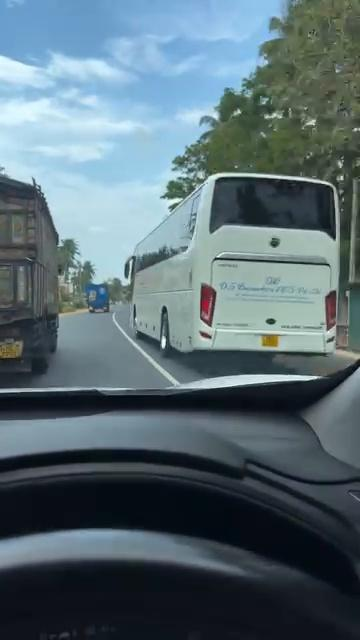illegal overtaking: (124, 166, 345, 377)
number plate: (260, 332, 283, 349)
